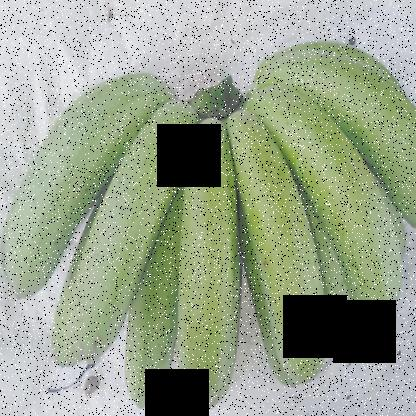unripe: (258, 78, 401, 347), (72, 81, 201, 358), (228, 116, 333, 399), (272, 33, 415, 226), (172, 107, 259, 413)
